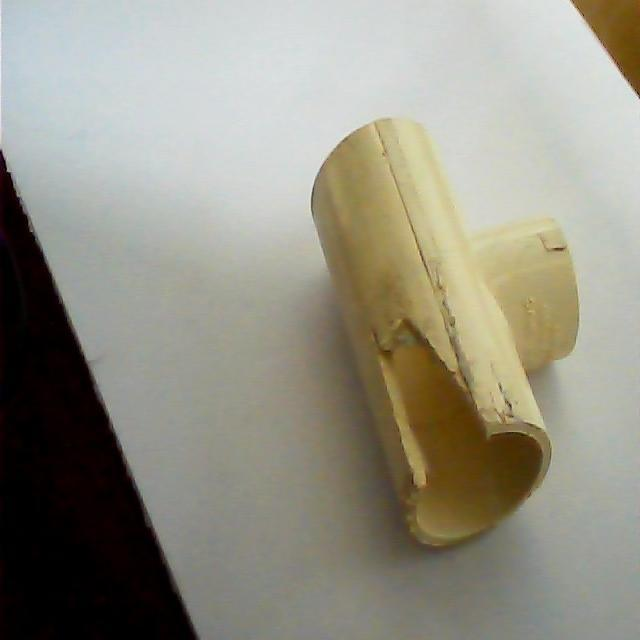Defective: (380, 316, 504, 487), (367, 338, 493, 491)
T Joint: (309, 118, 581, 552)
